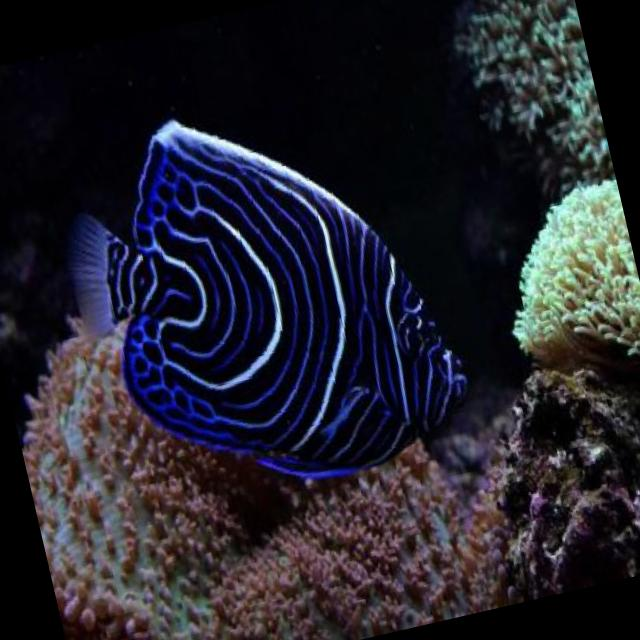AngelFish: (46, 69, 478, 522)
